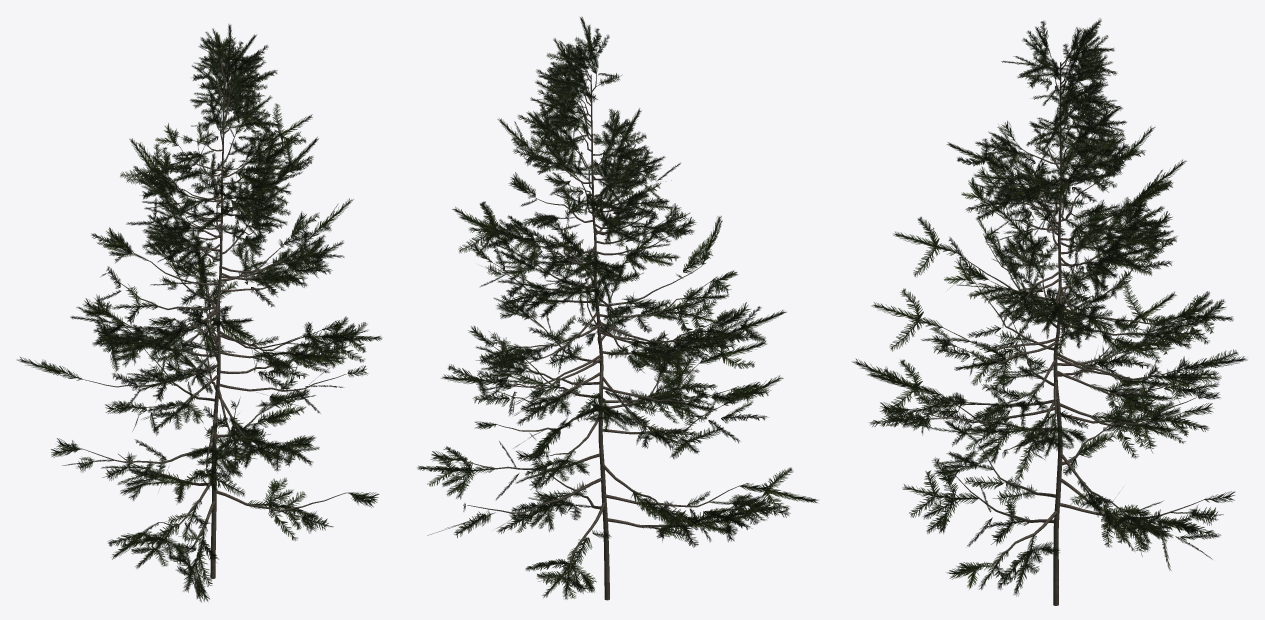
File: tree2.gltf
3 views of the same model, side by side, from view 1: azimuth 30°, elevation 25°; view 2: azimuth 150°, elevation 25°; view 3: azimuth 270°, elevation 25° (orthographic). The views are drawn at different scales.
Parts seen in each view (by area): view 1: fir_sapling_medium_a_LOD1.002, fir_sapling_medium_a_LOD1; view 2: fir_sapling_medium_a_LOD1.002, fir_sapling_medium_a_LOD1; view 3: fir_sapling_medium_a_LOD1.002, fir_sapling_medium_a_LOD1.
Part boxes in pixels (box(x1,y1,x2,y2)): fir_sapling_medium_a_LOD1.002: box(16, 24, 381, 602); fir_sapling_medium_a_LOD1: box(83, 56, 346, 578); fir_sapling_medium_a_LOD1.002: box(417, 16, 818, 599); fir_sapling_medium_a_LOD1: box(461, 68, 739, 600); fir_sapling_medium_a_LOD1.002: box(852, 18, 1247, 596); fir_sapling_medium_a_LOD1: box(913, 50, 1203, 605).
Size of the model in its own units: 5.06 by 8.77 by 5.32.
